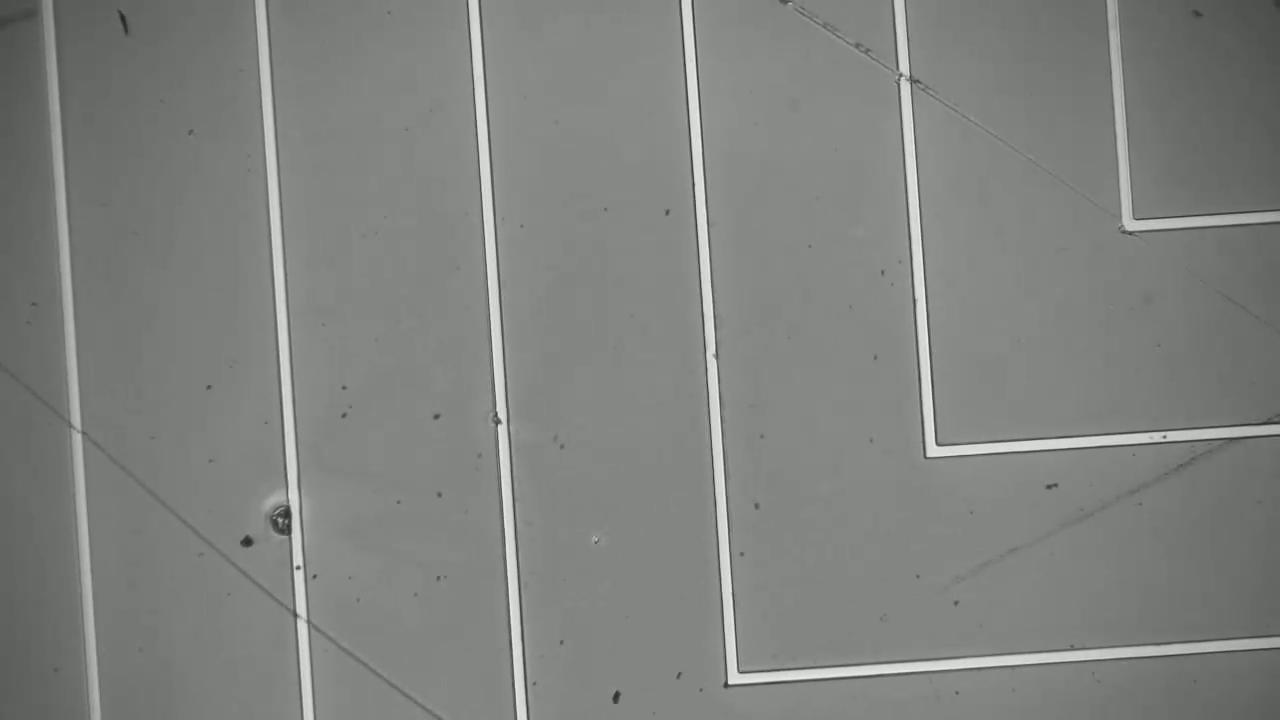scratch: (771, 1, 1262, 328), (10, 371, 441, 720), (952, 460, 1218, 593)
stains_enbedded: (249, 474, 321, 552), (479, 405, 516, 438)
